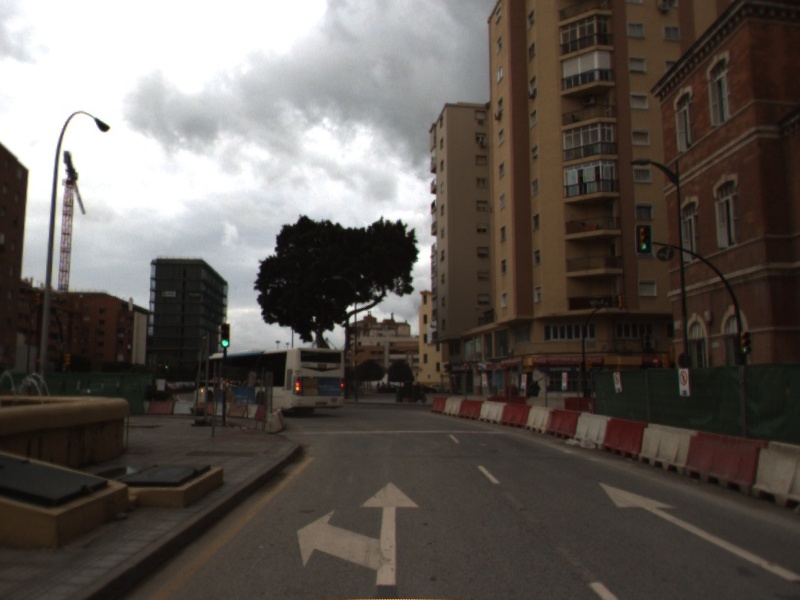STRAIGHT: (596, 479, 800, 582)
STRAIGHT_LEFT: (295, 478, 422, 586)
